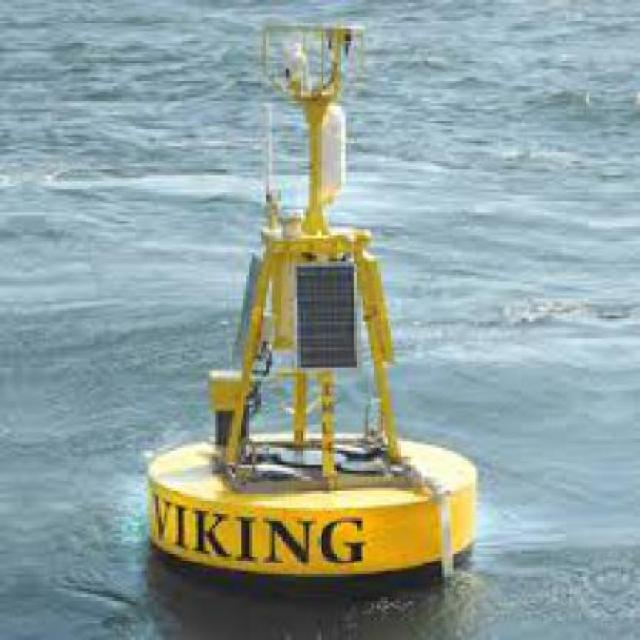buoy: (134, 18, 494, 595)
